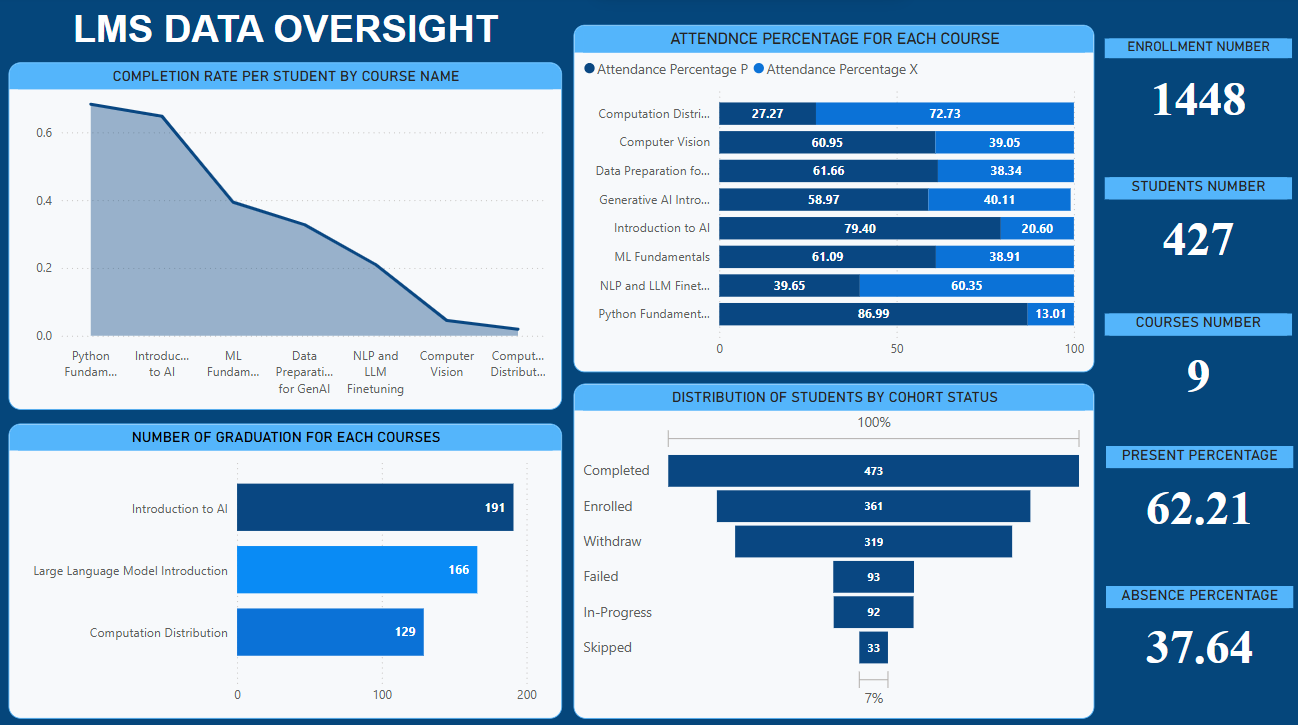

What the dashboard file says about the page in this screenshot:
{"tool":"powerbi","page":{"name":"Graduations","canvas":[1280,720],"ordinal":1},"visuals":[{"type":"shape","box":[0,0,1280,720],"z":0},{"type":"barChart","title":"NUMBER OF GRADUATION FOR EACH  COURSES ","fields":{"Category":["cohort_assignment.Course_Name"],"Y":["CountNonNull(cohort_assignment.Level_Graduation_Indicator)"]},"box":[13.5,440.2,541.7,266.6],"z":1000},{"type":"areaChart","title":"COMPLETION RATE PER STUDENT BY COURSE NAME","fields":{"Y":["MyCalculatedTable.Completion_Rate_Per_Student_Course"],"Category":["attendance_records.Course_Name"]},"box":[12.2,78.3,541.7,339.9],"z":2000},{"type":"donutChart","title":"DISTRIBUTION OF STUDENTS BY COHORT STATUS","fields":{"Category":["cohort_assignment.Cohort_Status","cohort_assignment.Enrollment_Confirmation"],"Y":["CountNonNull(cohort_assignment.Student_ID)","Divide(CountNonNull(cohort_assignment.Student_ID), ScopedEval(CountNonNull(cohort_assignment.Student_ID), []))"]},"box":[565,378.8,516.2,327.5],"z":3000},{"type":"card","title":"ENROLLMENT NUMBER","fields":{"Values":["CountNonNull(cohort_assignment.Student_ID)"]},"box":[1084.5,41.3,183.6,97.9],"z":4000},{"type":"barChart","title":"ATTENDNCE PERCENTAGE P & X FOR EACH COURSE","fields":{"Category":["attendance_records_new.Course_Name"],"Y":["attendance_records_new.Attendance Percentage P","attendance_records_new.Attendance Percentage X"]},"box":[565,20,510,340],"z":5000},{"type":"card","title":"COURSES NUMBER","fields":{"Values":["Count(cohort_assignment.Course_Name)"]},"box":[1084.5,310.5,183.6,97.9],"z":6000},{"type":"card","title":"STUDENTS NUMBER","fields":{"Values":["Count(cohort_assignment.Student_ID)"]},"box":[1084.5,177.4,183.6,96.4],"z":7000},{"type":"card","title":"PRESENT PERCENTAGE","fields":{"Values":["attendance_records_new.Attendance Percentage P"]},"box":[1086,440.5,183.6,97.9],"z":8000},{"type":"card","title":"ABSENCE PERCENTAGE","fields":{"Values":["attendance_records_new.Attendance Percentage X"]},"box":[1086,576.7,183.6,96.4],"z":9000},{"type":"textbox","box":[29.3,15.9,506.3,52.6],"z":10000}]}

Visuals, with their boxes in screenshot pixels (x1, y1, x2, y2), scaled from the page's 1280x720 canvas onto the 1298x725 screenshot:
shape: 0:0:1297:724
"NUMBER OF GRADUATION FOR EACH  COURSES " barChart: 14:443:563:712
"COMPLETION RATE PER STUDENT BY COURSE NAME" areaChart: 12:79:562:421
"DISTRIBUTION OF STUDENTS BY COHORT STATUS" donutChart: 573:381:1096:711
"ENROLLMENT NUMBER" card: 1100:42:1286:140
"ATTENDNCE PERCENTAGE P & X FOR EACH COURSE" barChart: 573:20:1090:362
"COURSES NUMBER" card: 1100:313:1286:411
"STUDENTS NUMBER" card: 1100:179:1286:276
"PRESENT PERCENTAGE" card: 1101:444:1287:542
"ABSENCE PERCENTAGE" card: 1101:581:1287:678
textbox: 30:16:543:69
